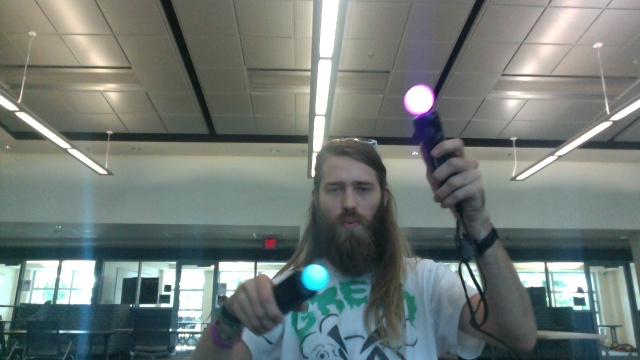wand: (404, 85, 434, 116), (303, 264, 328, 291)
